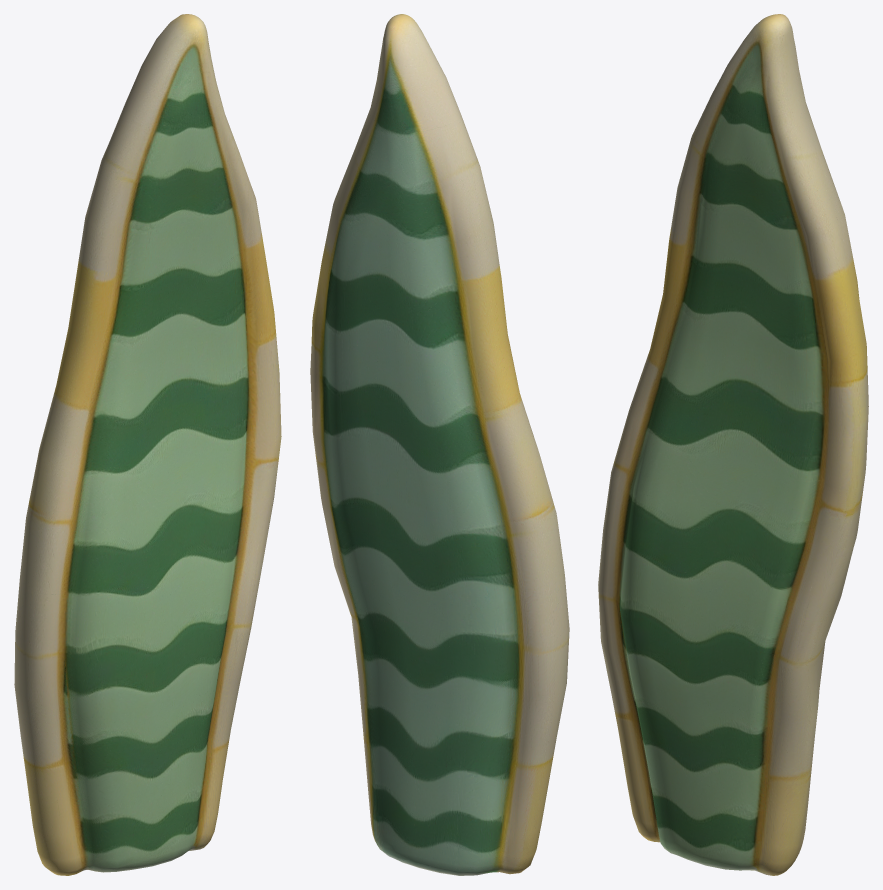
Rendered from T1_A_meshy5_texIMG.glb.
3 views of the same model, side by side, from view 1: azimuth 30°, elevation 25°; view 2: azimuth 150°, elevation 25°; view 3: azimuth 330°, elevation 25° (orthographic). The views are drawn at different scales.
Bounding box in the file's own units: 0.6374 × 2 × 0.2571.
Materials: 1 (1 with a texture image).
